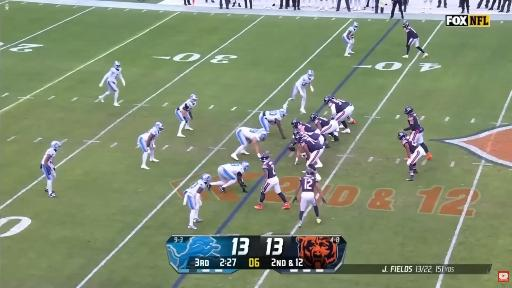Helmet: (291, 118, 301, 129), (259, 152, 270, 162), (324, 95, 334, 105), (259, 129, 267, 141), (51, 141, 61, 150), (294, 133, 303, 142), (201, 174, 211, 182), (155, 122, 163, 131), (398, 132, 407, 140), (404, 107, 413, 114), (242, 162, 249, 170), (279, 109, 286, 117), (307, 70, 314, 78), (293, 129, 300, 137), (113, 61, 120, 69), (306, 168, 314, 175), (190, 94, 197, 101), (311, 114, 318, 121), (403, 20, 409, 27), (353, 22, 358, 29)
Jersey: (301, 136, 323, 152), (240, 127, 265, 141), (328, 99, 350, 113), (185, 180, 206, 194), (142, 127, 160, 142), (300, 176, 316, 192), (408, 114, 423, 131), (221, 164, 244, 175), (42, 148, 56, 166), (402, 138, 418, 153), (264, 110, 281, 124), (263, 160, 276, 178), (178, 100, 196, 111), (107, 68, 121, 82), (405, 27, 418, 42), (296, 75, 313, 86), (299, 123, 317, 133), (315, 117, 330, 127), (305, 133, 321, 141), (345, 27, 355, 39)
Player: (255, 153, 290, 209), (293, 168, 325, 226), (184, 174, 211, 229), (404, 107, 432, 159), (398, 132, 425, 180), (284, 70, 314, 113), (295, 134, 323, 180), (231, 127, 267, 160), (211, 162, 249, 193), (138, 122, 163, 169), (99, 61, 125, 106), (324, 96, 355, 133), (41, 141, 61, 197), (175, 94, 197, 137), (403, 21, 428, 58), (311, 114, 339, 147), (289, 129, 329, 151), (259, 109, 286, 138), (342, 22, 358, 57), (292, 119, 320, 133)
